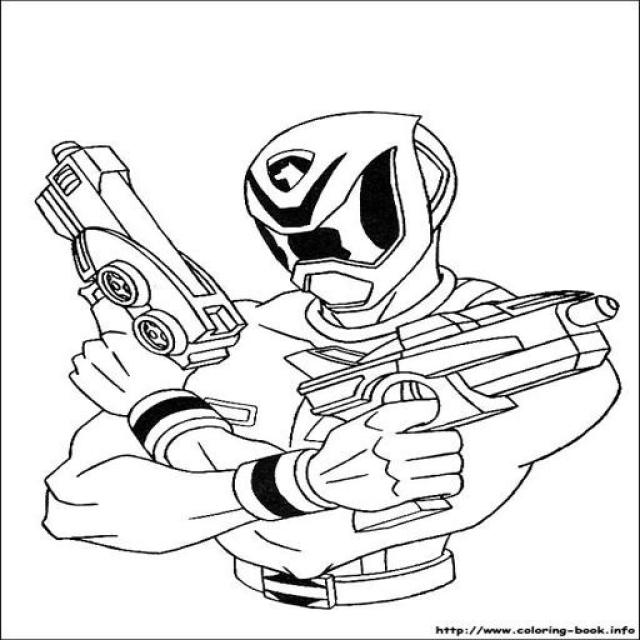pistol: (292, 286, 622, 536), (25, 140, 251, 379)
